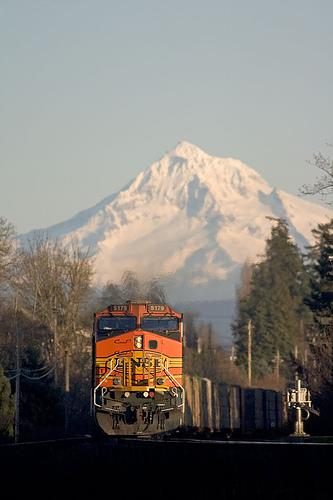Train: (91, 300, 285, 442)
